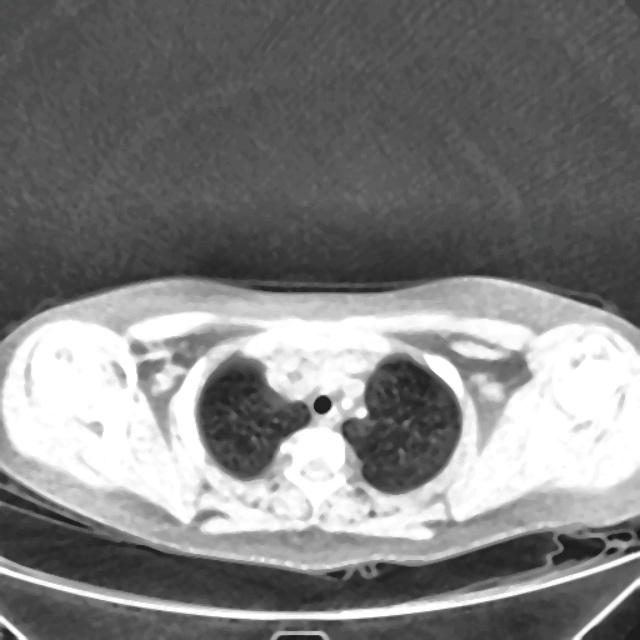covid: (1, 274, 639, 577)
